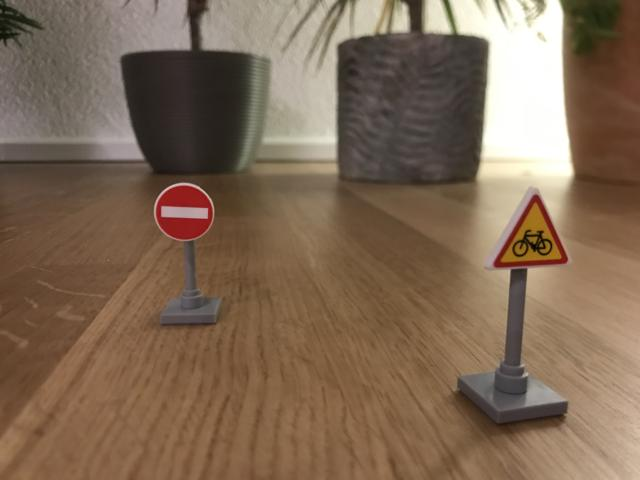radfahrer: (490, 186, 573, 269)
verbot der einfahrt: (155, 184, 215, 240)
